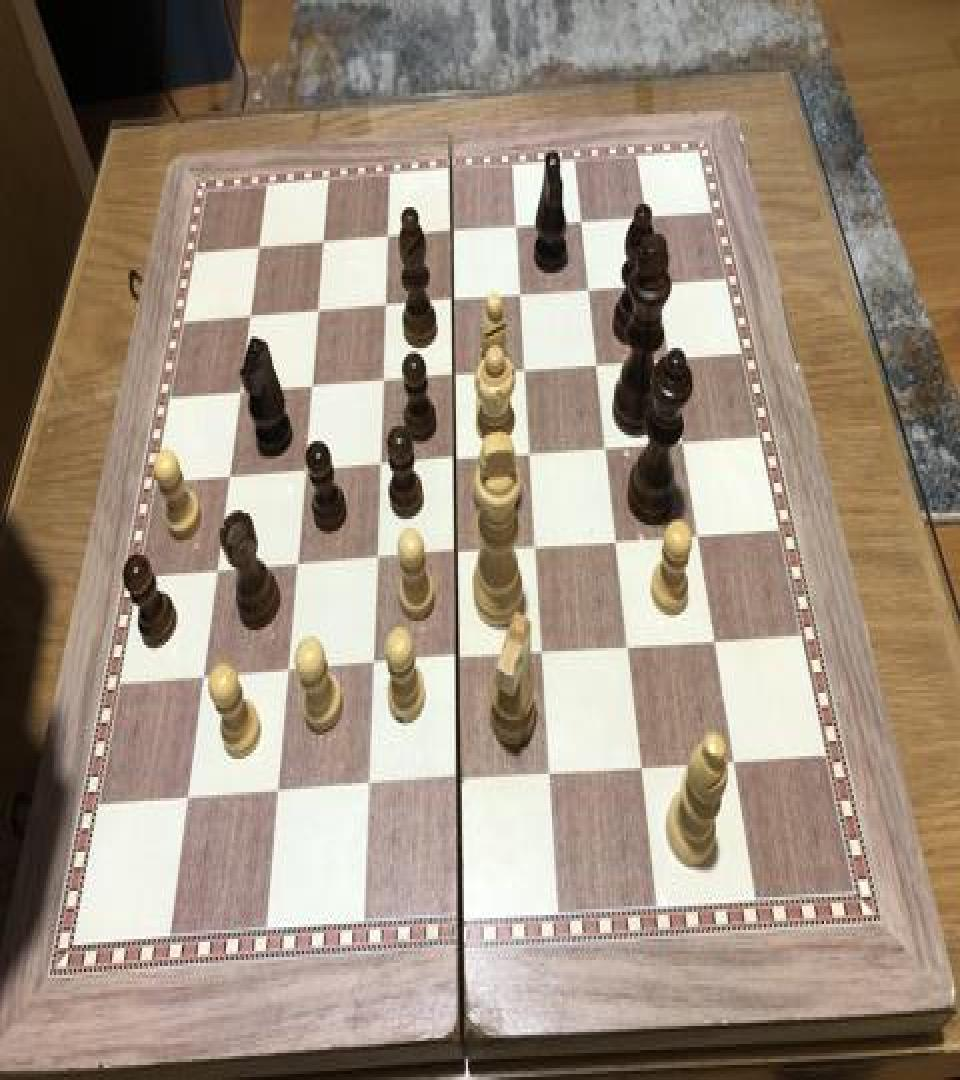xcorner: (444, 640, 468, 677), (360, 646, 384, 683), (275, 652, 299, 689), (175, 778, 199, 815), (633, 201, 657, 237), (503, 212, 527, 248), (439, 216, 463, 252), (375, 222, 399, 258), (312, 226, 336, 262), (248, 232, 272, 268), (644, 267, 668, 303), (576, 273, 600, 309), (508, 279, 532, 315), (440, 284, 464, 320), (373, 290, 397, 326), (306, 294, 330, 330), (239, 300, 263, 336), (656, 342, 680, 378), (584, 348, 608, 384), (512, 352, 536, 388), (441, 358, 465, 394), (370, 364, 394, 400), (299, 369, 323, 405), (229, 375, 253, 411), (670, 424, 694, 460), (517, 436, 541, 472), (442, 441, 466, 477), (367, 447, 391, 483), (292, 453, 316, 489), (218, 458, 242, 494), (685, 519, 709, 555), (604, 524, 628, 560), (523, 530, 547, 566), (443, 536, 467, 572), (363, 540, 387, 576), (284, 546, 308, 582), (206, 552, 230, 588), (702, 624, 726, 660), (616, 630, 640, 666), (530, 636, 554, 672), (191, 657, 215, 693), (722, 746, 746, 782), (630, 750, 654, 786), (537, 756, 561, 792), (446, 762, 470, 798), (355, 766, 379, 802), (265, 772, 289, 808), (568, 206, 592, 241), (593, 431, 617, 466)
